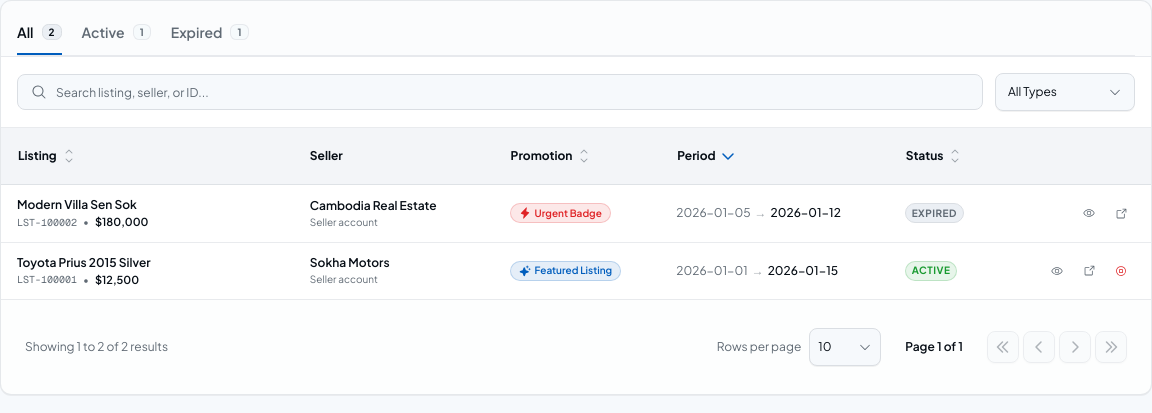
<PromotionTable /> › renders promotion items and filters by search query
Check: the link "Toyota Prius 2015 Silver" is shown, box top-left (17, 255), bottom-right (151, 270)
Check: the link "Modern Villa Sen Sok" is shown, box top-left (17, 197), bottom-right (137, 212)
Type "Prius" into the field with placeholder "Search listing, seller, or ID..." at coordinates (500, 92), box top-left (17, 74), bottom-right (983, 110)
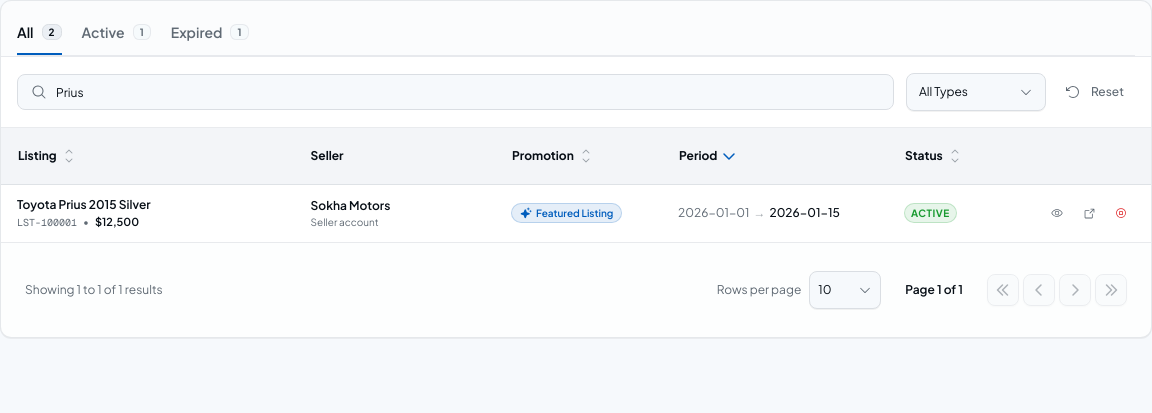
Check: the link "Toyota Prius 2015 Silver" is shown, box top-left (17, 197), bottom-right (151, 212)
Check: no links "Modern Villa Sen Sok" are shown
